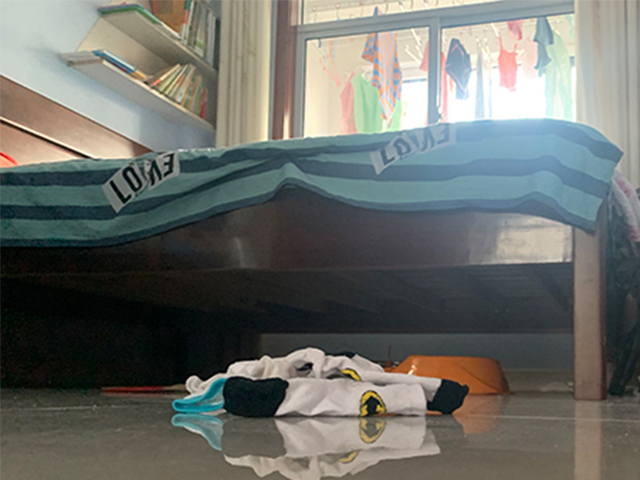bed: (1, 72, 640, 401)
socks: (170, 345, 470, 418)
